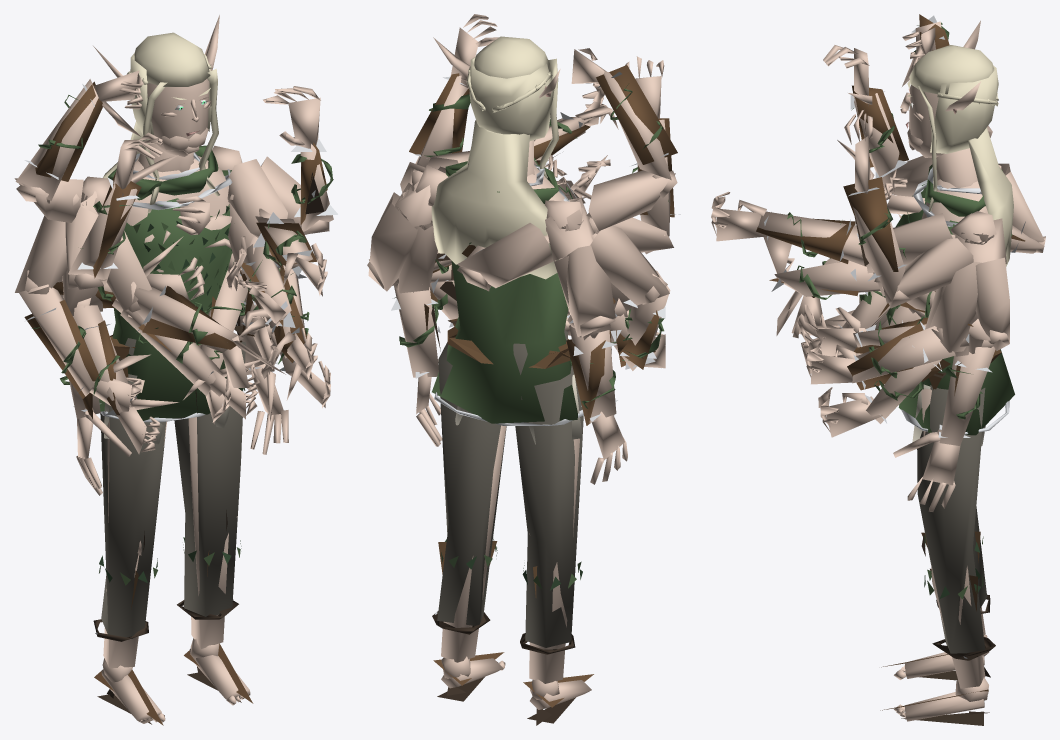
The model's file is elf_leather.glb.
3 renders of one model, left to right at view 1: azimuth 30°, elevation 25°; view 2: azimuth 150°, elevation 25°; view 3: azimuth 270°, elevation 25°, orthographic.
Visible parts, largest first — view 1: B_6d, B_5d, B_0d, R.staffR_20d, R.xbowR_29d, R.raised_14d, B_3d, L.bowArm_41d, R.cast_23d, B_4d, B_7d, R.weapon_11d (+33 smaller); view 2: B_6d, B_0d, B_5d, R.raised_14d, B_3d, R.staffR_20d, L.rest_35d, R.draw_17d, B_2d, R.carry_32d, B_7d, L.carry_56d (+20 smaller); view 3: B_0d, B_6d, B_5d, L.shield_38d, L.cast_50d, L.bowArm_41d, L.carry_56d, L.rest_35d, B_4d, L.cast_52d, L.xbowL_47d, B_7d (+23 smaller).
Boxes of the visible parts, x1,y1,x2,y2 form: B_6d: (100, 338, 245, 638); B_5d: (99, 145, 245, 422); B_0d: (93, 15, 219, 213); R.staffR_20d: (15, 204, 93, 396); R.xbowR_29d: (106, 231, 243, 352); R.raised_14d: (14, 79, 98, 222); B_3d: (103, 379, 237, 668); L.bowArm_41d: (227, 159, 312, 268); R.cast_23d: (65, 184, 137, 289); B_4d: (101, 638, 250, 723); B_7d: (93, 537, 253, 725); R.weapon_11d: (62, 271, 131, 413); B_6d: (437, 330, 583, 647); B_0d: (431, 36, 560, 279); B_5d: (432, 161, 583, 425); R.raised_14d: (566, 71, 677, 230); B_3d: (441, 374, 582, 683); R.staffR_20d: (565, 220, 670, 345); L.rest_35d: (394, 208, 438, 377); R.draw_17d: (457, 219, 554, 291); B_2d: (396, 165, 594, 260); R.carry_32d: (561, 226, 615, 340); B_7d: (432, 537, 593, 725); L.carry_56d: (367, 189, 451, 291); B_0d: (900, 20, 1013, 266); B_6d: (917, 385, 987, 653); B_5d: (895, 164, 1014, 435); L.shield_38d: (852, 235, 993, 383); L.cast_50d: (853, 207, 988, 308); L.bowArm_41d: (758, 211, 982, 273); L.carry_56d: (906, 235, 1009, 350); L.rest_35d: (939, 313, 995, 445); B_4d: (894, 634, 989, 721); L.cast_52d: (843, 177, 906, 281); L.xbowL_47d: (774, 260, 884, 296); B_7d: (880, 531, 995, 725).
Bounding box in the file's own units: 0.8964 × 1.93 × 0.8993.
